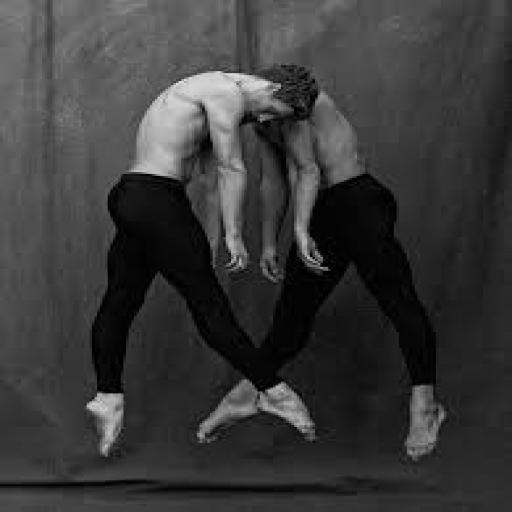dancing: (189, 63, 452, 465), (82, 61, 328, 461)
